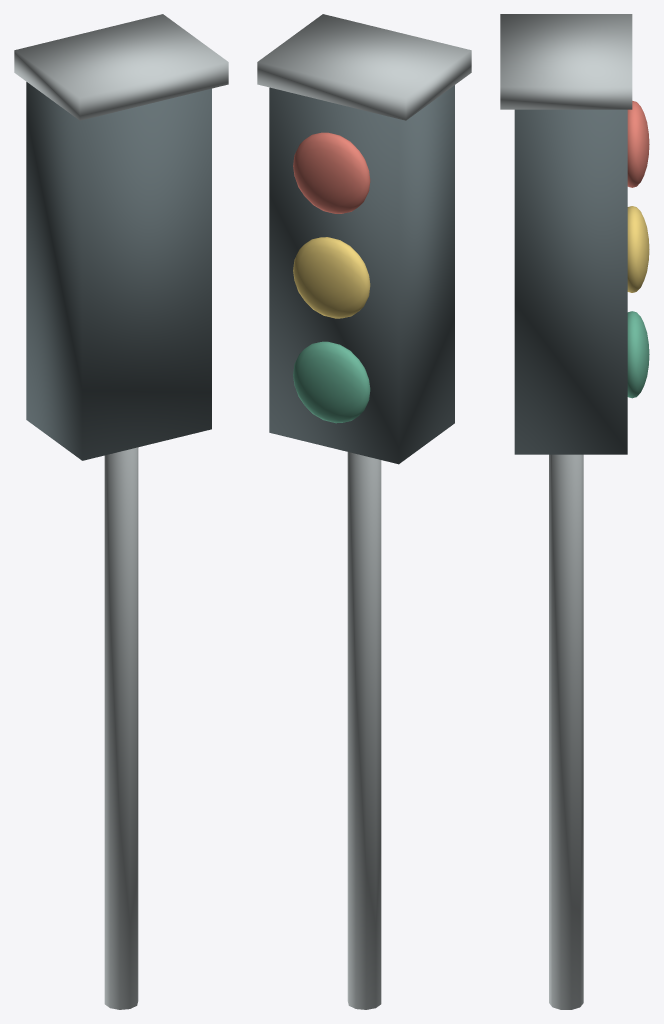
File: Traffic-Light.glb
3 views of the same model, side by side, from view 1: azimuth 30°, elevation 25°; view 2: azimuth 150°, elevation 25°; view 3: azimuth 270°, elevation 25° (orthographic).
Visible parts, largest first — view 1: traffic_signal_mat_01_signal_housing, traffic_signal_mat_00_pole; view 2: traffic_signal_mat_01_signal_housing, traffic_signal_mat_00_pole, traffic_signal_mat_02_lens_3.02, traffic_signal_mat_04_lens_2.28, traffic_signal_mat_03_lens_2.65; view 3: traffic_signal_mat_01_signal_housing, traffic_signal_mat_00_pole, traffic_signal_mat_04_lens_2.28, traffic_signal_mat_03_lens_2.65, traffic_signal_mat_02_lens_3.02.
Part boxes in pixels (bbox=[...]): traffic_signal_mat_01_signal_housing: bbox=[26, 82, 211, 460]; traffic_signal_mat_00_pole: bbox=[14, 14, 228, 1009]; traffic_signal_mat_01_signal_housing: bbox=[269, 85, 454, 464]; traffic_signal_mat_00_pole: bbox=[257, 14, 471, 1009]; traffic_signal_mat_02_lens_3.02: bbox=[293, 132, 370, 213]; traffic_signal_mat_04_lens_2.28: bbox=[293, 341, 370, 423]; traffic_signal_mat_03_lens_2.65: bbox=[293, 237, 370, 318]; traffic_signal_mat_01_signal_housing: bbox=[514, 109, 627, 454]; traffic_signal_mat_00_pole: bbox=[500, 14, 632, 1009]; traffic_signal_mat_04_lens_2.28: bbox=[627, 311, 649, 398]; traffic_signal_mat_03_lens_2.65: bbox=[627, 206, 649, 292]; traffic_signal_mat_02_lens_3.02: bbox=[627, 101, 649, 187].
Size of the model in its own units: 0.55 by 3.35 by 0.475.
